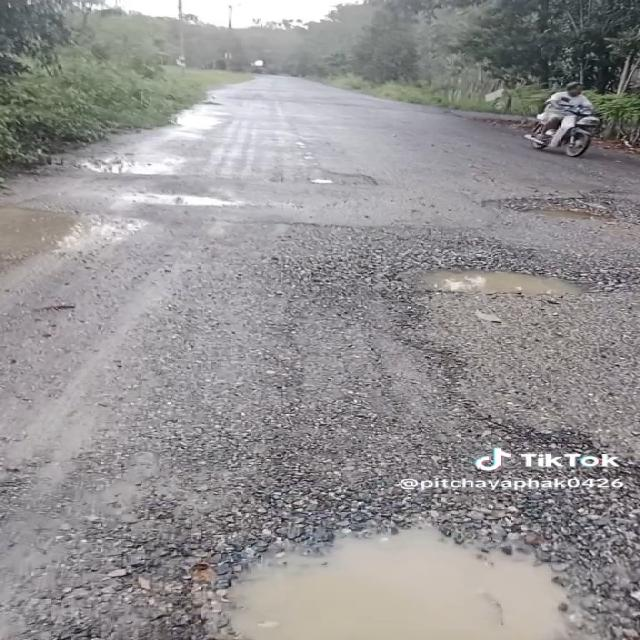Poth-hole: (450, 182, 640, 274)
